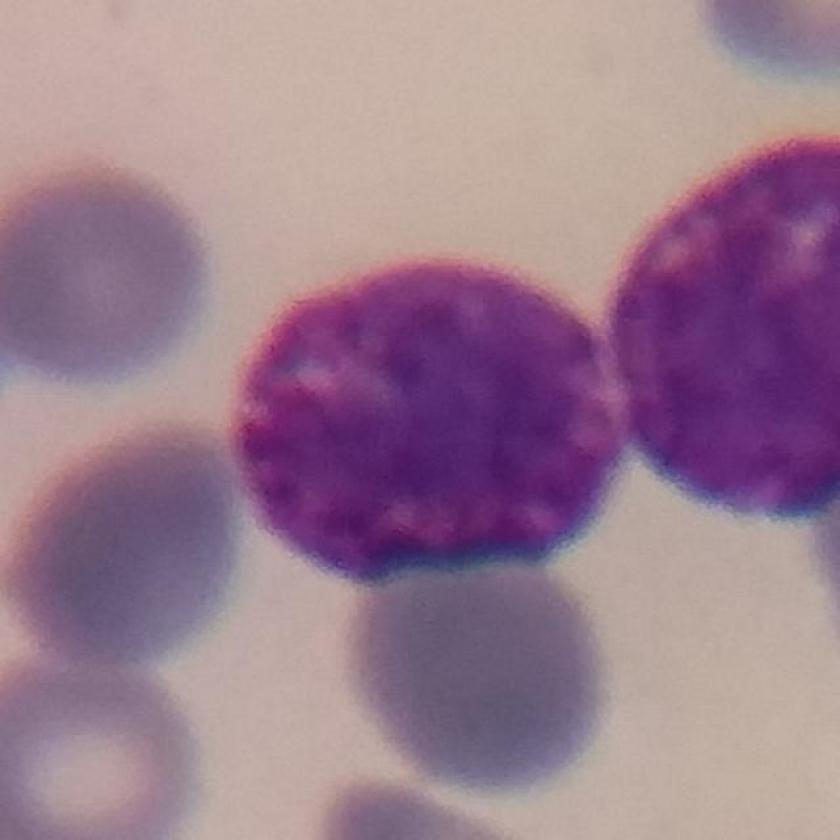basophil: (226, 245, 630, 589), (614, 127, 840, 531)
